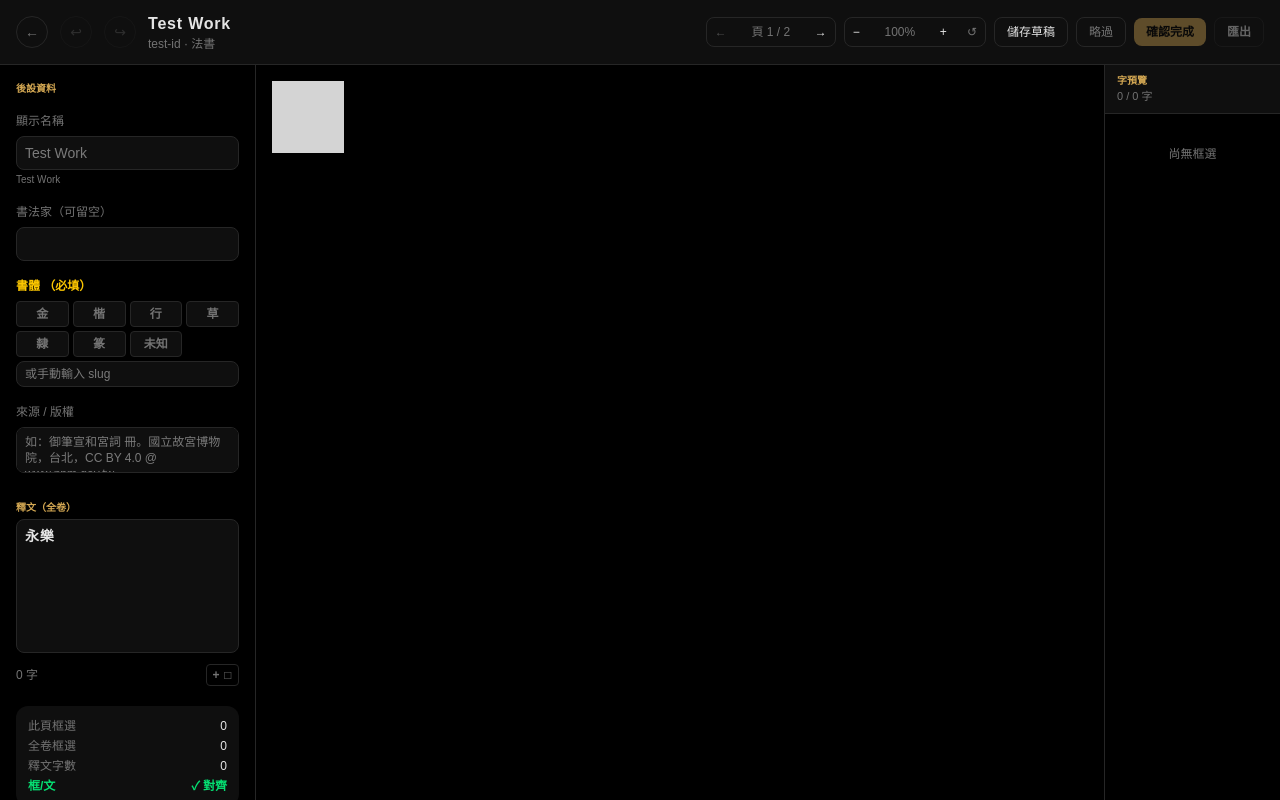
Test: page navigation › next button is disabled on last page
The image size is (1280, 800).
Click the button "→": coordinates (821, 32) [807,18,835,46]
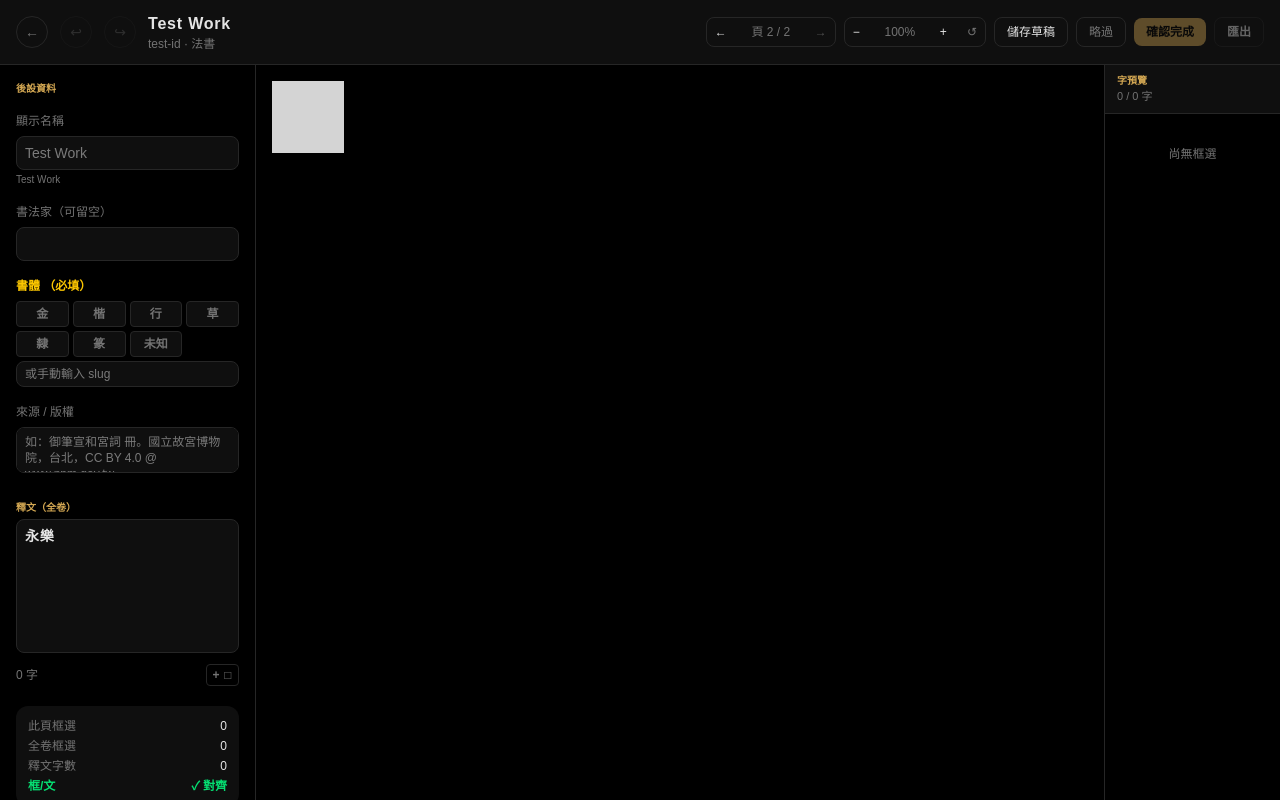
Result: the text "頁 2 / 2" is shown at [752,25,790,39]
